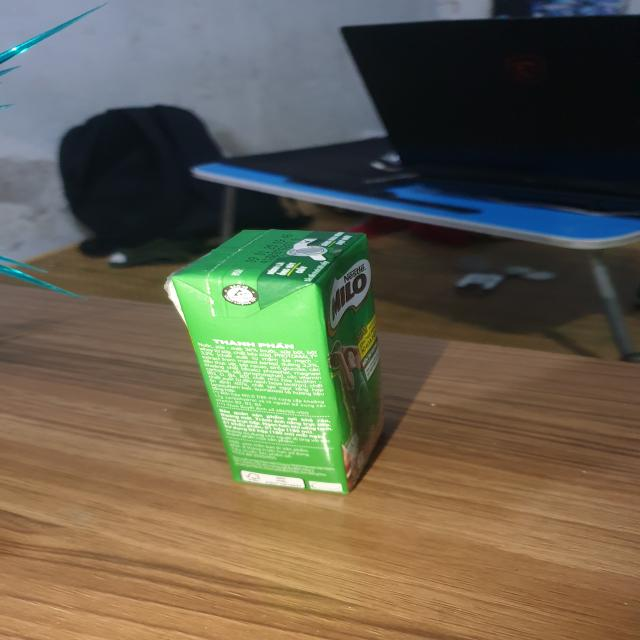Milo: (154, 222, 411, 501)
